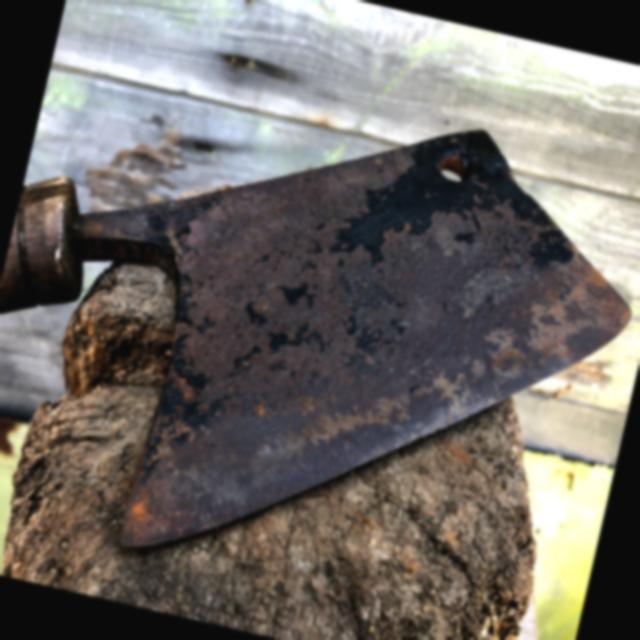cleaver: (0, 35, 640, 640)
